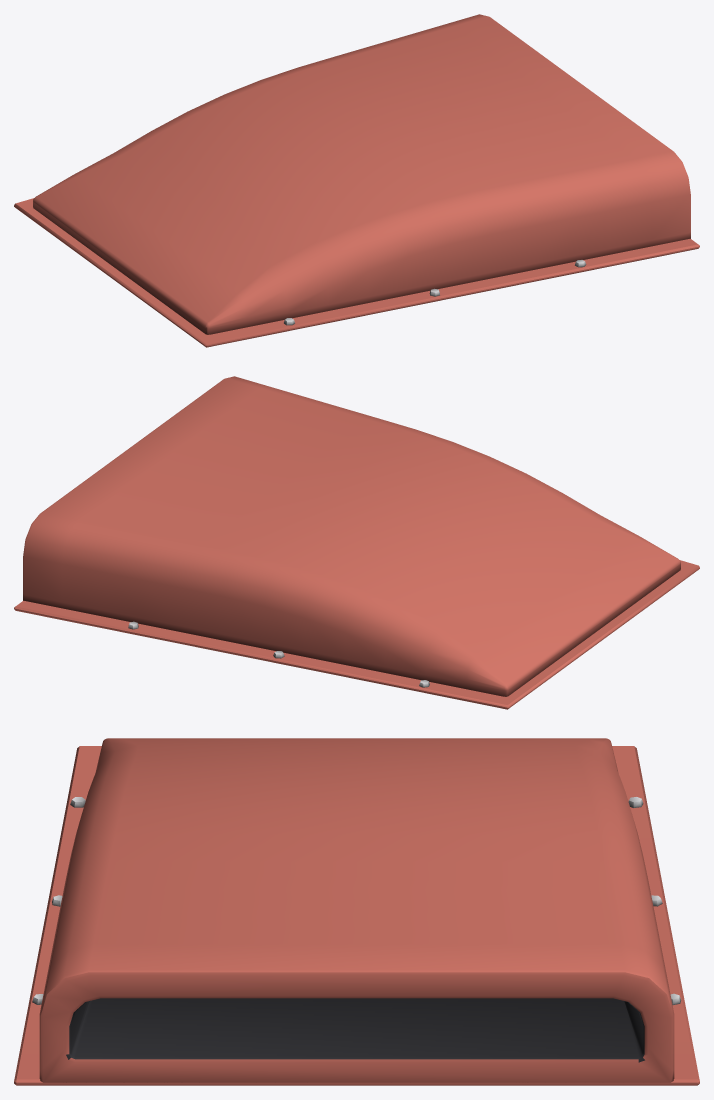
File: hood_scoop_overlay.glb
The picture shows the model from 3 angles, top to bottom: view 1: azimuth 30°, elevation 25°; view 2: azimuth 150°, elevation 25°; view 3: azimuth 270°, elevation 25°; orthographic projection. The views are drawn at different scales.
Parts seen in each view (by area): view 1: PART; view 2: PART; view 3: PART.
Boxes of the visible parts, x1,y1,x2,y2 form: PART: (14,14,699,347); PART: (14,376,699,709); PART: (14,738,699,1085).
Bounding box in the file's own units: 0.562 × 0.09 × 0.4857.
